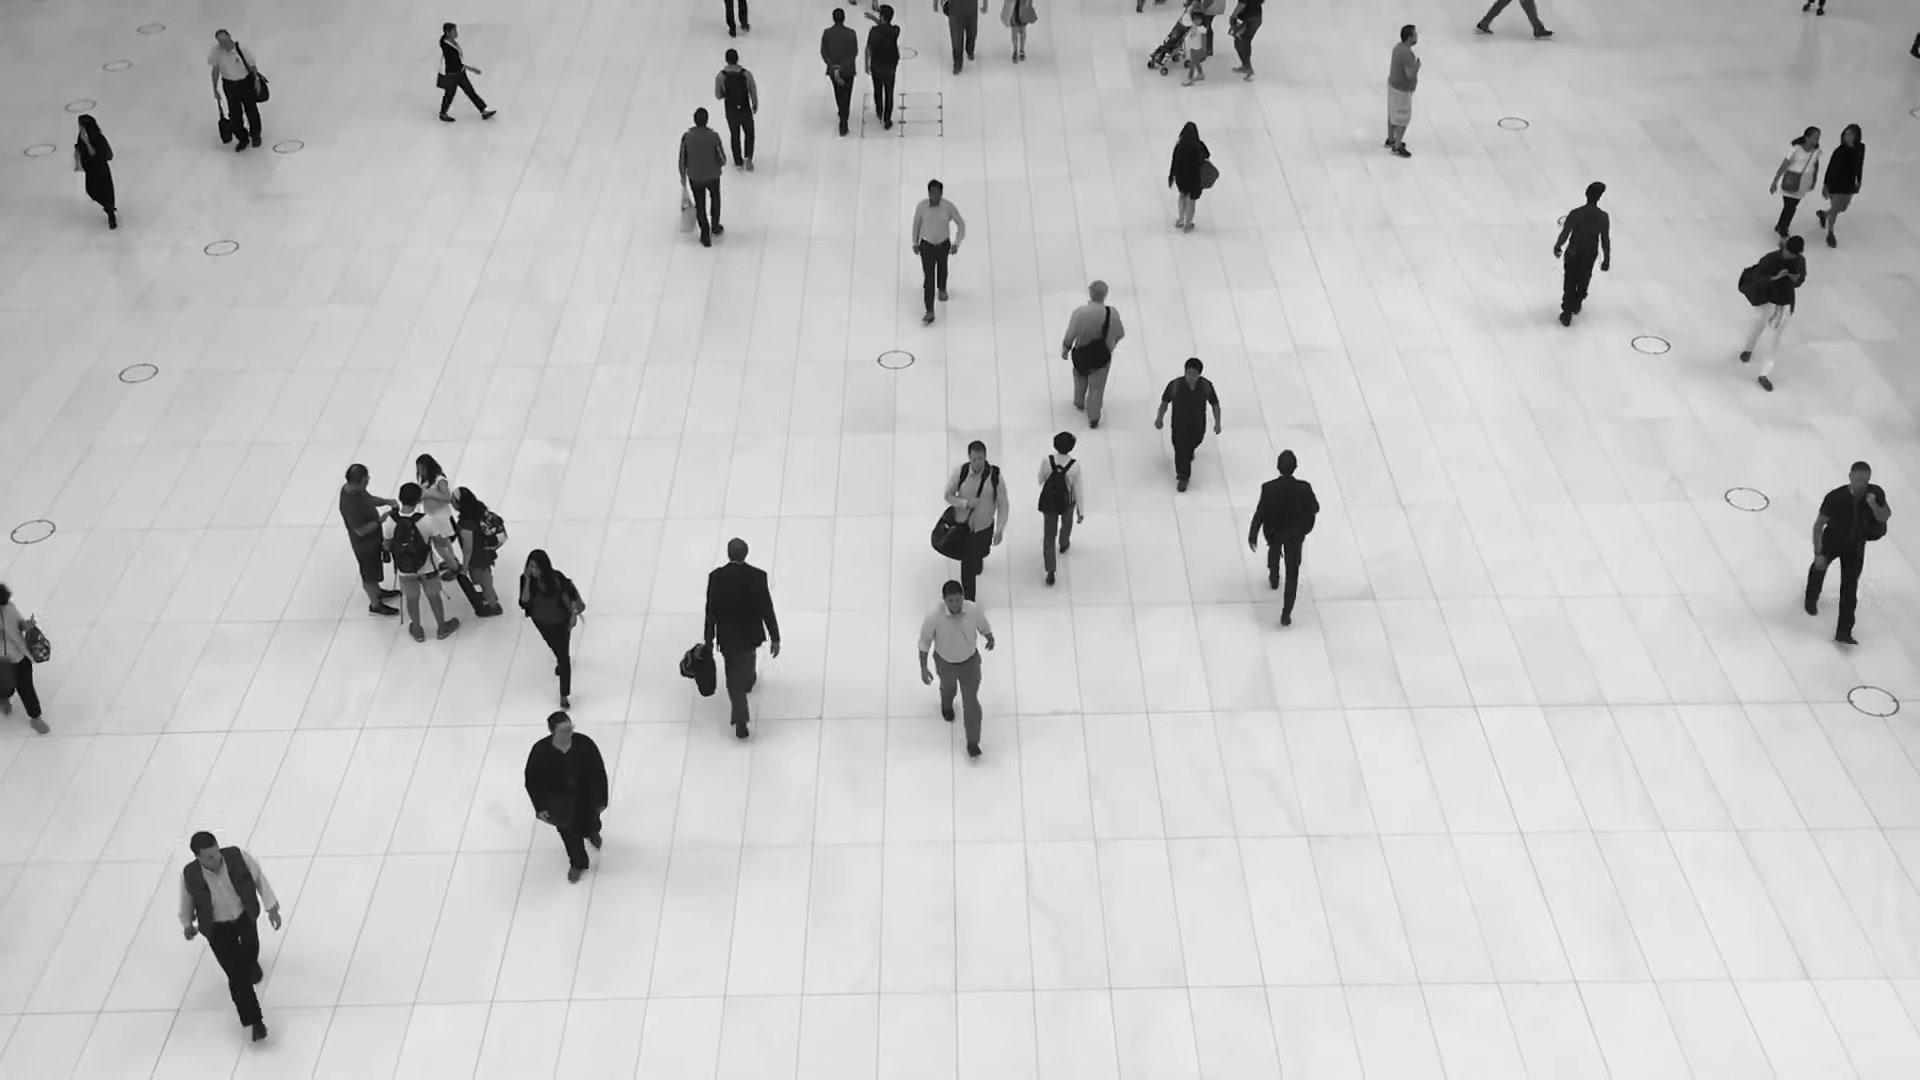person: (178, 830, 280, 1041), (1802, 461, 1890, 645), (704, 537, 781, 734), (524, 709, 610, 880), (918, 579, 995, 762), (1247, 449, 1321, 623), (381, 481, 458, 641), (518, 548, 592, 707), (943, 438, 1009, 600), (1738, 234, 1807, 388), (1061, 281, 1125, 432), (338, 463, 400, 615), (1553, 182, 1611, 329), (1156, 356, 1220, 489), (911, 178, 964, 325), (1035, 430, 1084, 583), (206, 28, 261, 154), (678, 108, 727, 250), (450, 485, 503, 616), (1767, 125, 1822, 236), (435, 21, 494, 121), (1166, 122, 1218, 235), (1817, 123, 1865, 246), (714, 48, 759, 172), (415, 453, 459, 580), (1383, 23, 1421, 157), (819, 7, 858, 136), (74, 112, 118, 229), (863, 4, 899, 130), (1181, 12, 1207, 86)
